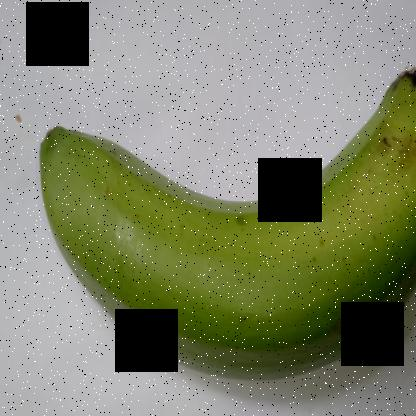freshunripe: (30, 62, 415, 395)
